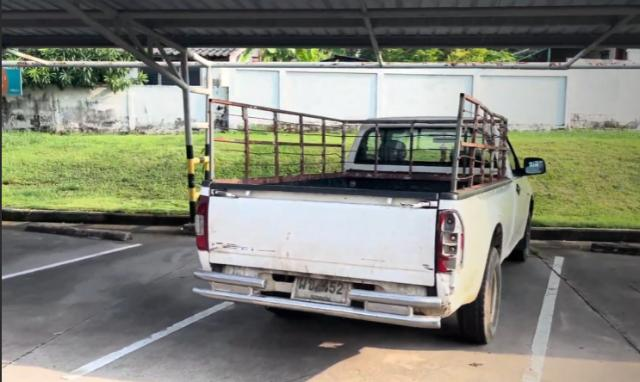pickup-truck: (184, 97, 549, 349)
